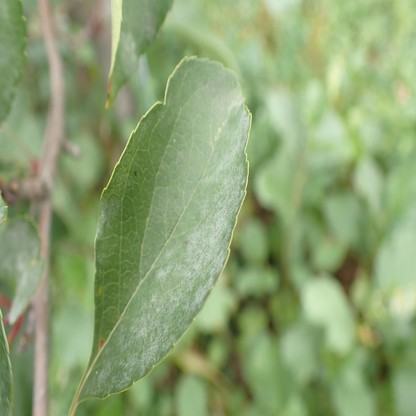powder: (95, 91, 252, 397), (0, 219, 40, 324), (119, 0, 159, 77), (0, 0, 20, 101), (98, 197, 120, 238)
